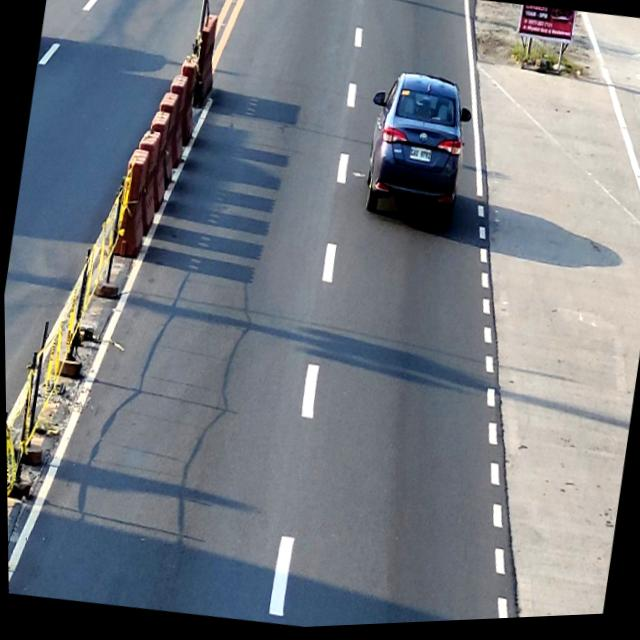Car: (355, 68, 478, 237)
License-Plate: (409, 150, 432, 169)
